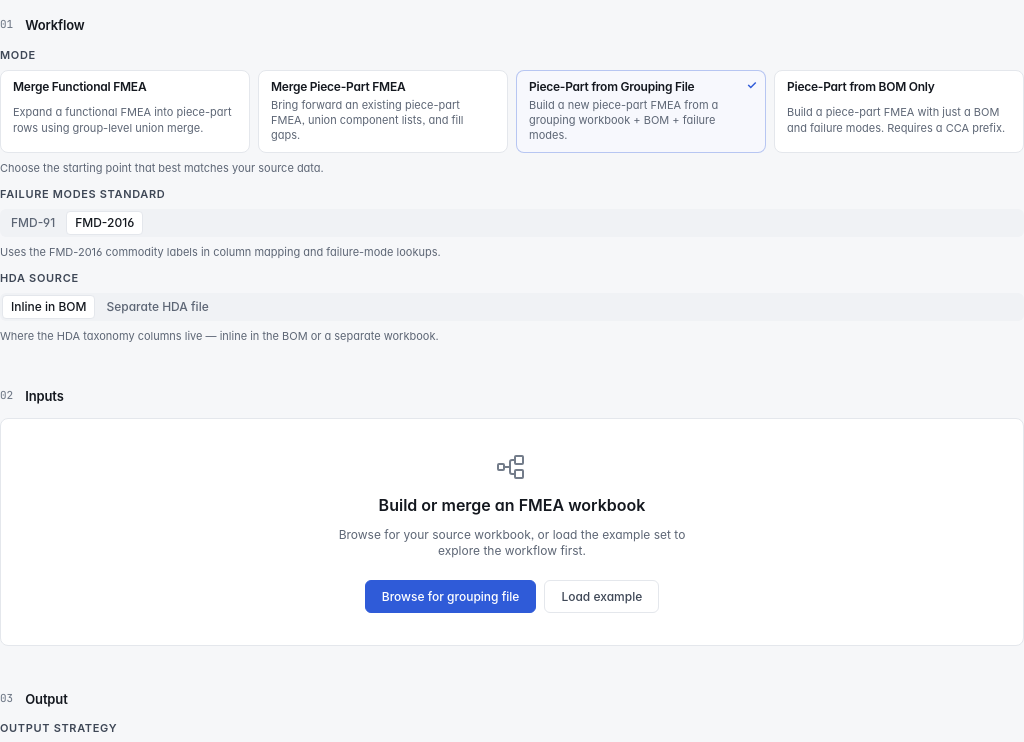
it: FmeaTool inspection flow › selected sheet becomes usable before background workbook aggregation finishes
Click the button "Merge Functional FMEA" at (125, 111), box [0,70,250,153]
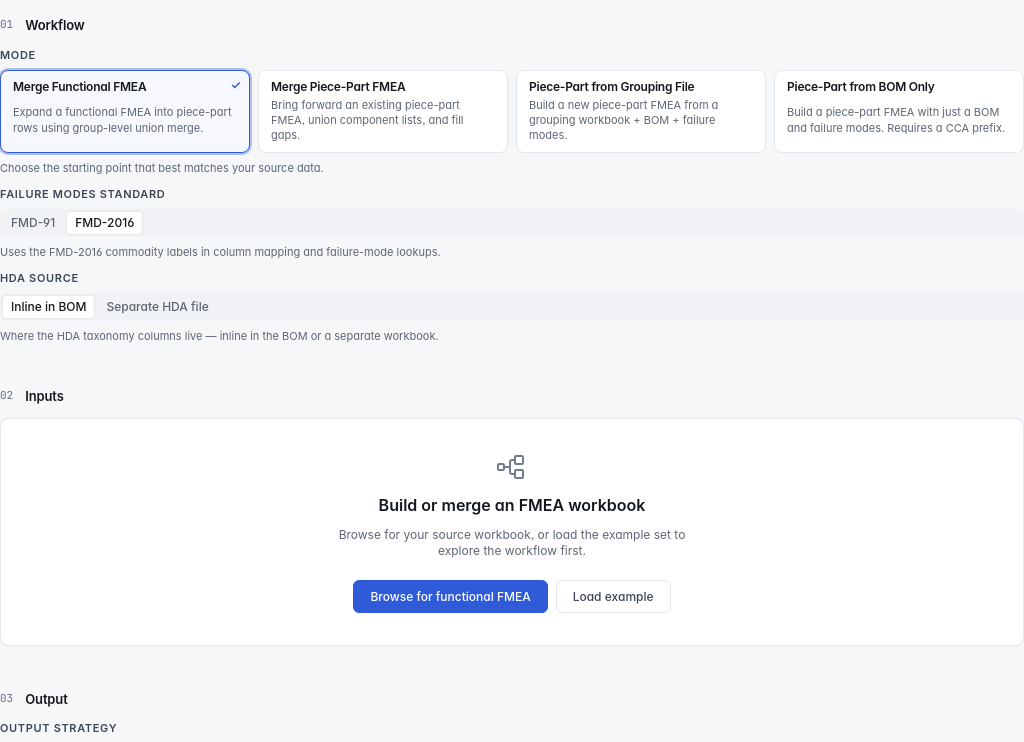
Click the button "Browse for functional FMEA" at (451, 596), box [354,580,548,612]
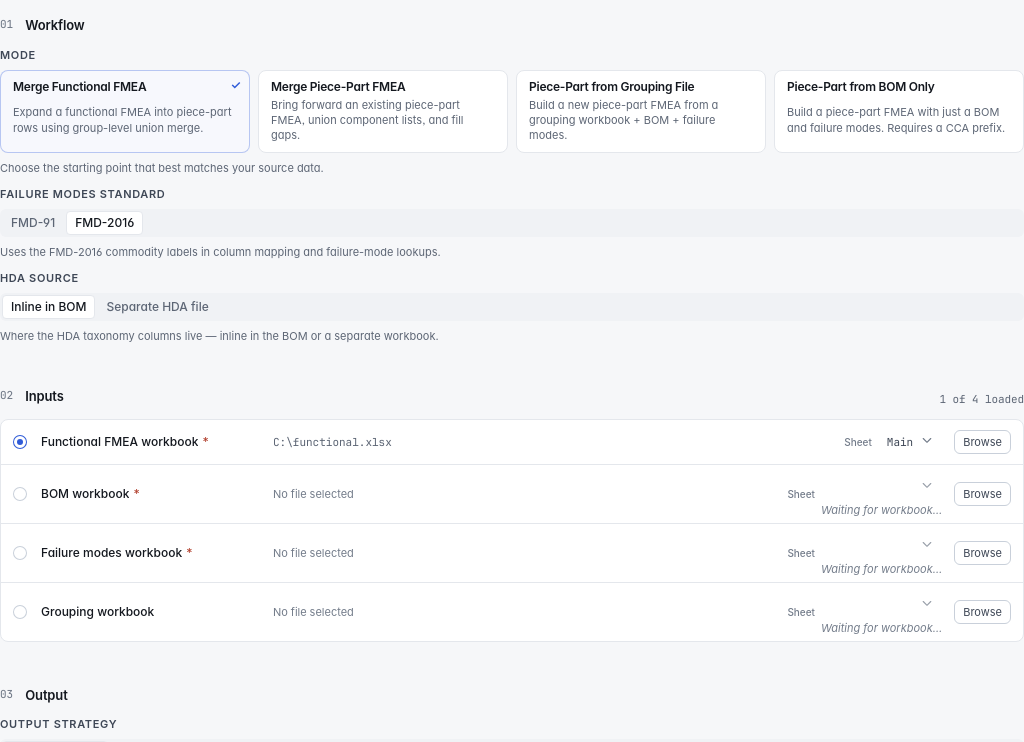
Result: the button "Browse" in the row of "C:\\functional.xlsx" is enabled at [954,430,1011,454]
